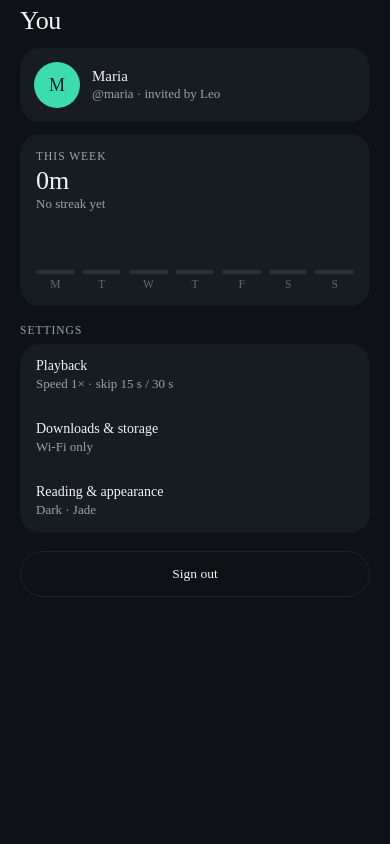
it: You › keeps bookmarks and says so when clearing fails
Click the button labelled "Downloads & storage Wi-Fi only". click: [97, 428]
box: [20, 407, 370, 470]
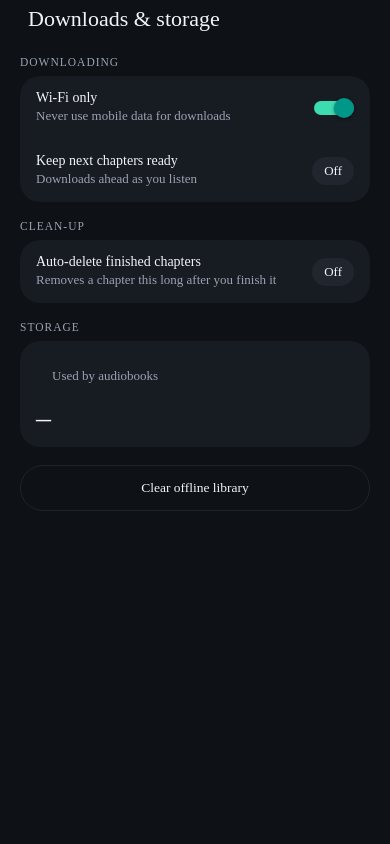
Click the button "Clear offline library". click: [195, 488]
box: [20, 465, 370, 511]
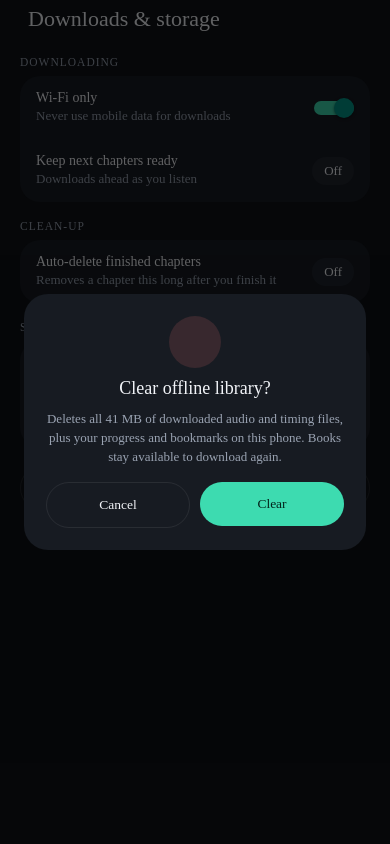
Click the button "Clear". click: [272, 504]
box: [200, 482, 344, 526]
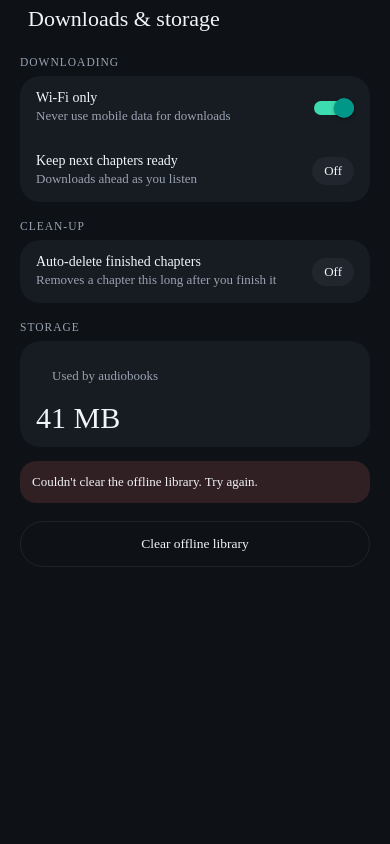
Check: the text "Couldn't clear the offline library. Try again." is shown, box [32, 474, 258, 489]
